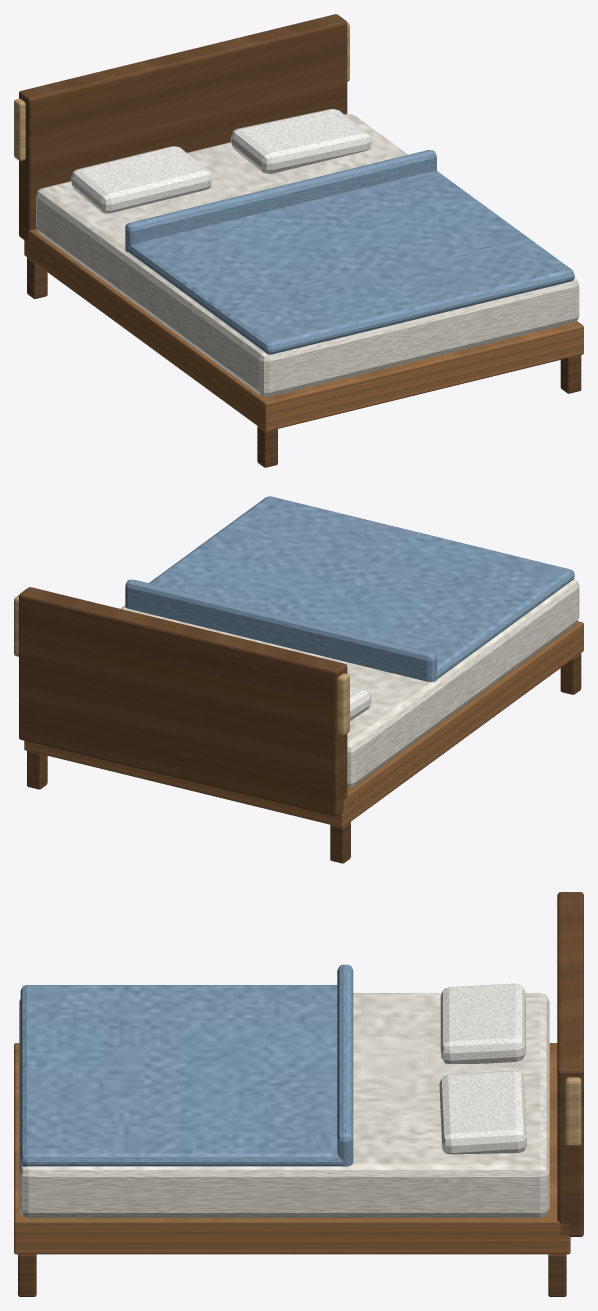
Rendered from bed.glb.
3 renders of one model, top to bottom at view 1: azimuth 30°, elevation 25°; view 2: azimuth 150°, elevation 25°; view 3: azimuth 270°, elevation 25°, orthographic. The views are drawn at different scales.
Visible parts, largest first — view 1: duvet, mattress, headboard, deck, duvet_fold, pillow0, pillow1, headtop, leg-11.003, leg11.003, leg-1-1.003; view 2: headboard, duvet, mattress, deck, duvet_fold, headtop, leg-1-1.003, leg1-1.003, leg-11.003, pillow0; view 3: duvet, mattress, deck, headboard, pillow1, pillow0, duvet_fold, headtop, leg11.003, leg1-1.003.
Boxes of the visible parts, <box> form: duvet: <box>127,170,574,354</box>; mattress: <box>36,114,579,396</box>; headboard: <box>19,14,347,241</box>; deck: <box>24,229,583,431</box>; duvet_fold: <box>125,150,436,252</box>; pillow0: <box>71,146,211,213</box>; pillow1: <box>231,109,370,173</box>; headtop: <box>14,22,349,160</box>; leg-11.003: <box>257,426,277,467</box>; leg11.003: <box>560,355,581,393</box>; leg-1-1.003: <box>27,257,47,298</box>; headboard: <box>19,587,347,816</box>; duvet: <box>149,496,574,679</box>; mattress: <box>120,579,579,787</box>; deck: <box>24,621,583,827</box>; duvet_fold: <box>125,579,436,682</box>; headtop: <box>14,595,349,735</box>; leg-1-1.003: <box>330,822,350,863</box>; leg1-1.003: <box>27,750,47,789</box>; leg-11.003: <box>560,653,581,694</box>; pillow0: <box>350,686,370,720</box>; duvet: <box>20,985,345,1166</box>; mattress: <box>19,993,549,1217</box>; deck: <box>14,1043,570,1254</box>; headboard: <box>557,892,583,1236</box>; pillow1: <box>439,1070,526,1154</box>; pillow0: <box>440,983,525,1063</box>; duvet_fold: <box>337,964,353,1166</box>; headtop: <box>565,1077,581,1146</box>; leg11.003: <box>18,1254,36,1296</box>; leg1-1.003: <box>548,1254,566,1296</box>.
Size of the model in its own units: 1.66 by 0.95 by 2.15.
Materials: 6 (6 with a texture image).
